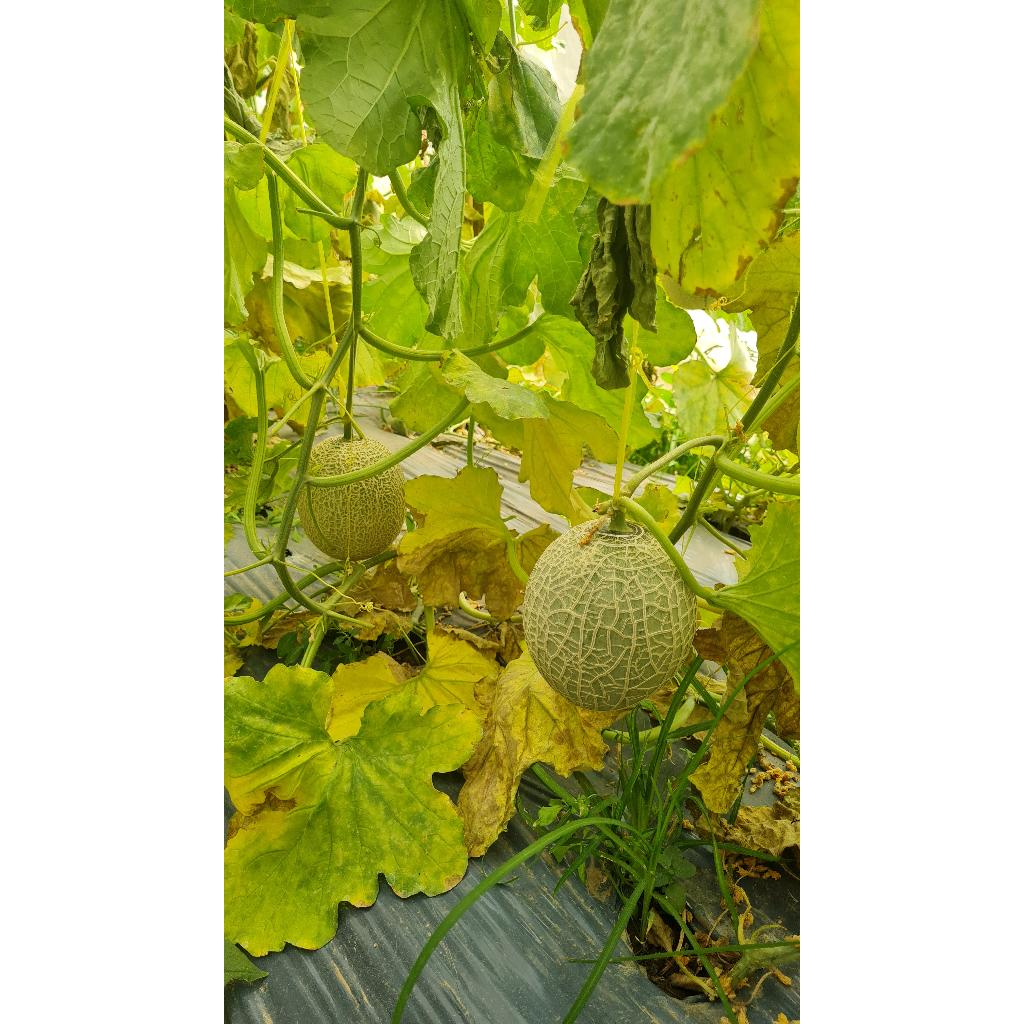melon: (522, 522, 696, 712), (298, 464, 406, 560), (310, 436, 390, 476)
